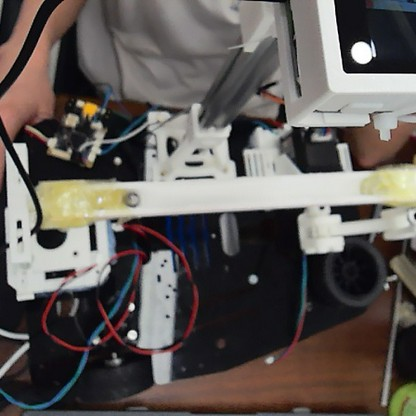ironball: (122, 189, 143, 209)
